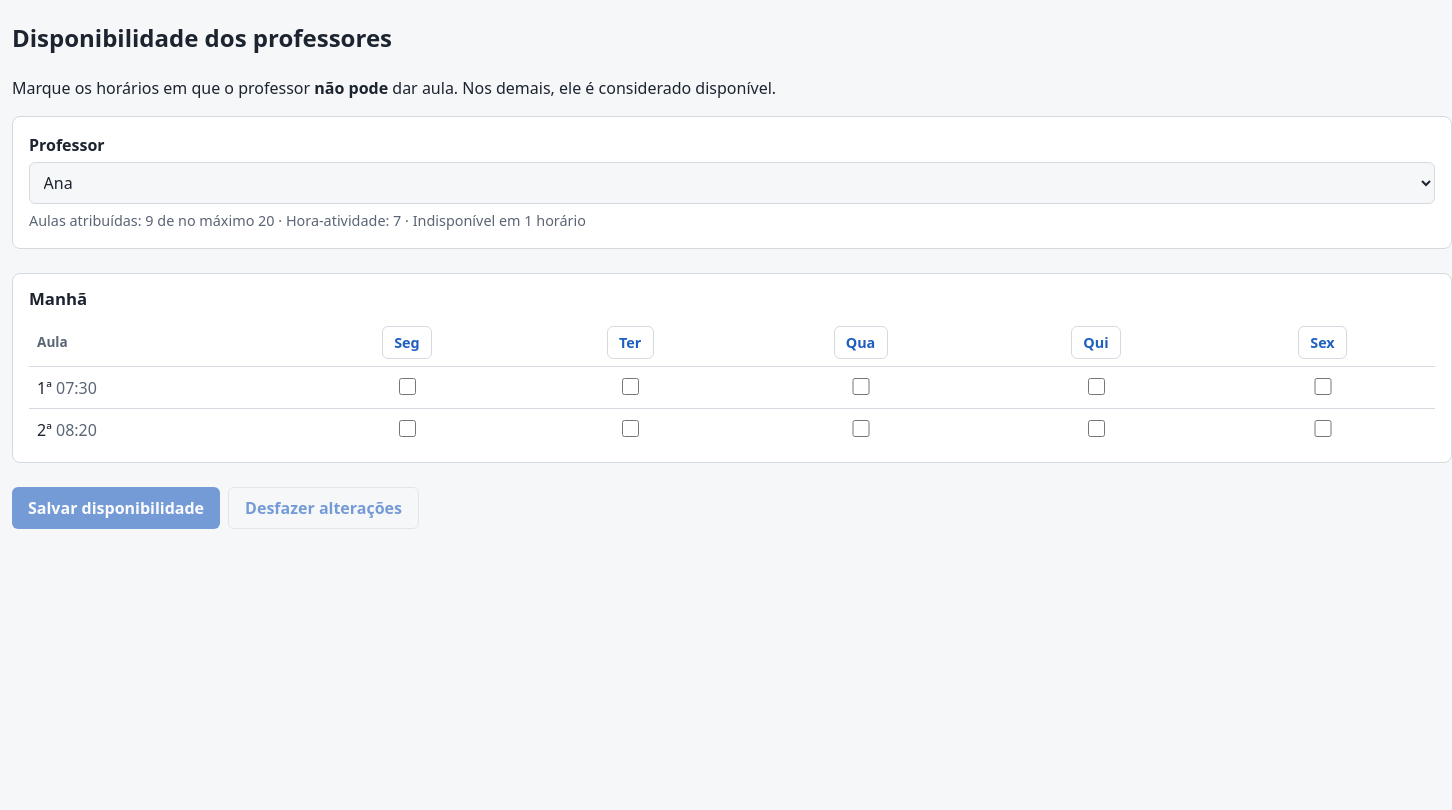
AvailabilityPage › marca horários e o dia inteiro, e salva preservando os de turnos arquivados
Expected: the button "Salvar disponibilidade" is disabled, [12,487,220,529]
Click the checkbox named "Indisponível na segunda, 2ª aula da Manhã (08:20–09:10)" at (407, 428), box [399,420,416,437]
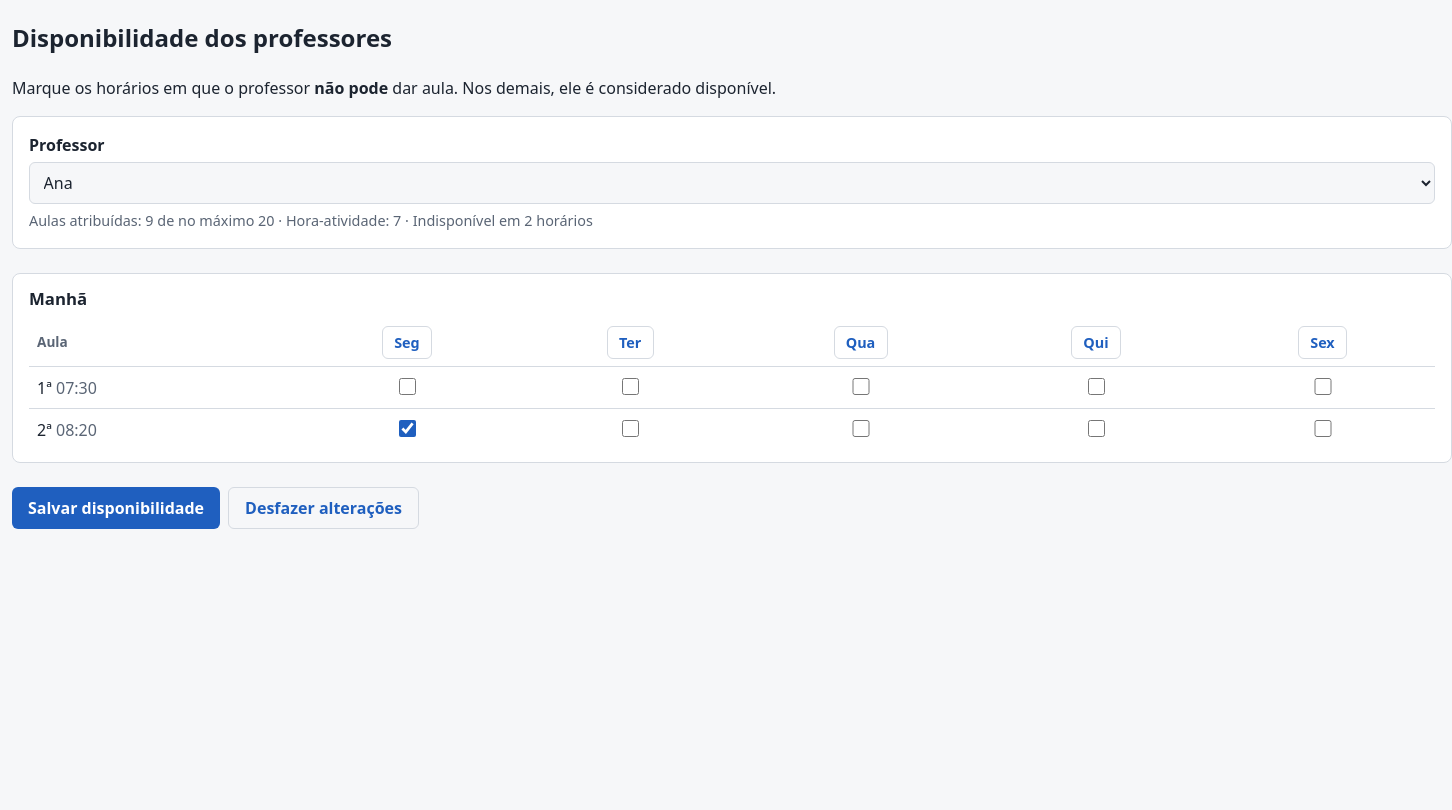
Click the button with aria-label "quarta inteira indisponível na Manhã" at (860, 343), box [834,326,888,359]
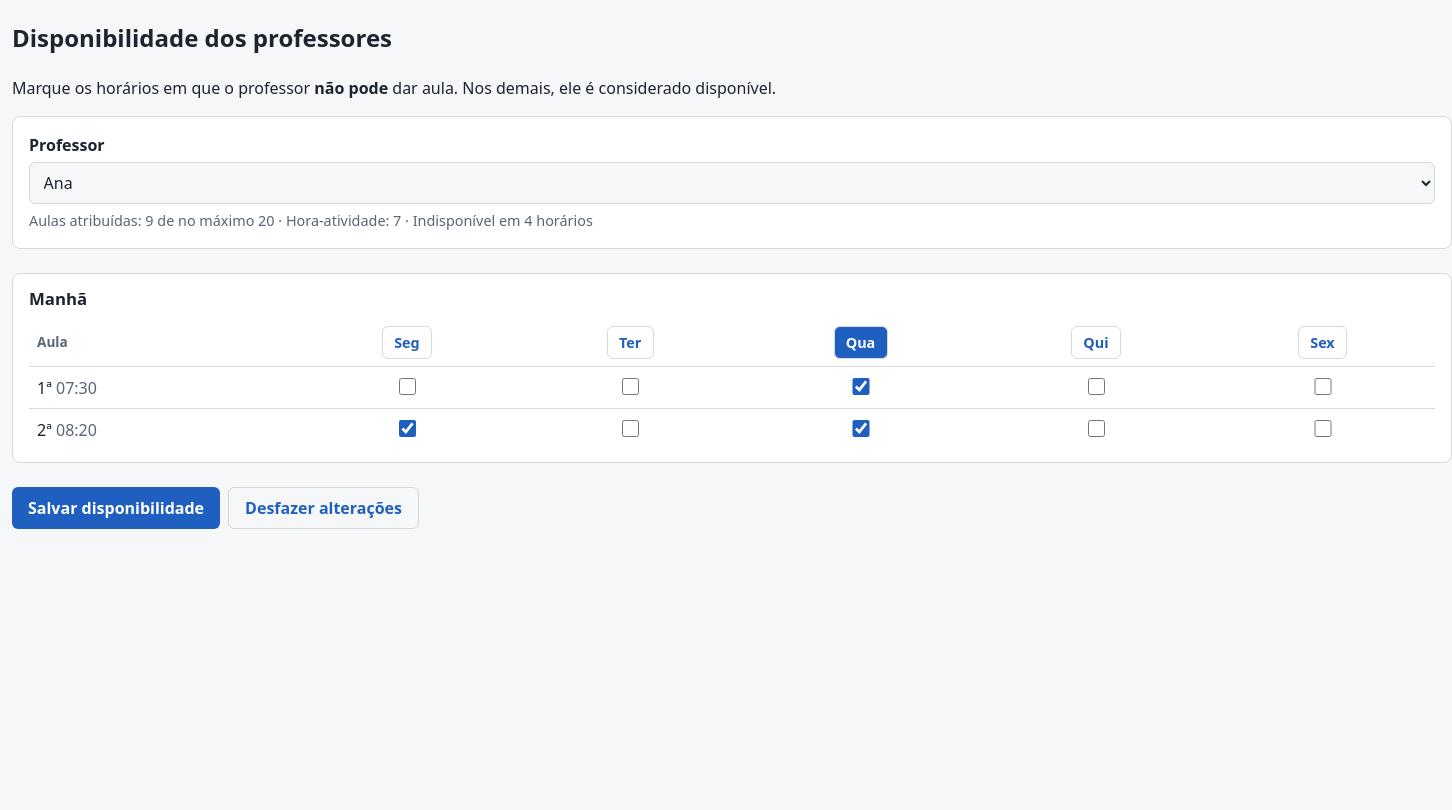
Now the text with class "hint" shows "Indisponível em 4 horários", box [29,211,593,230]
Click the button "Salvar disponibilidade" at (116, 508), box [12,487,220,529]
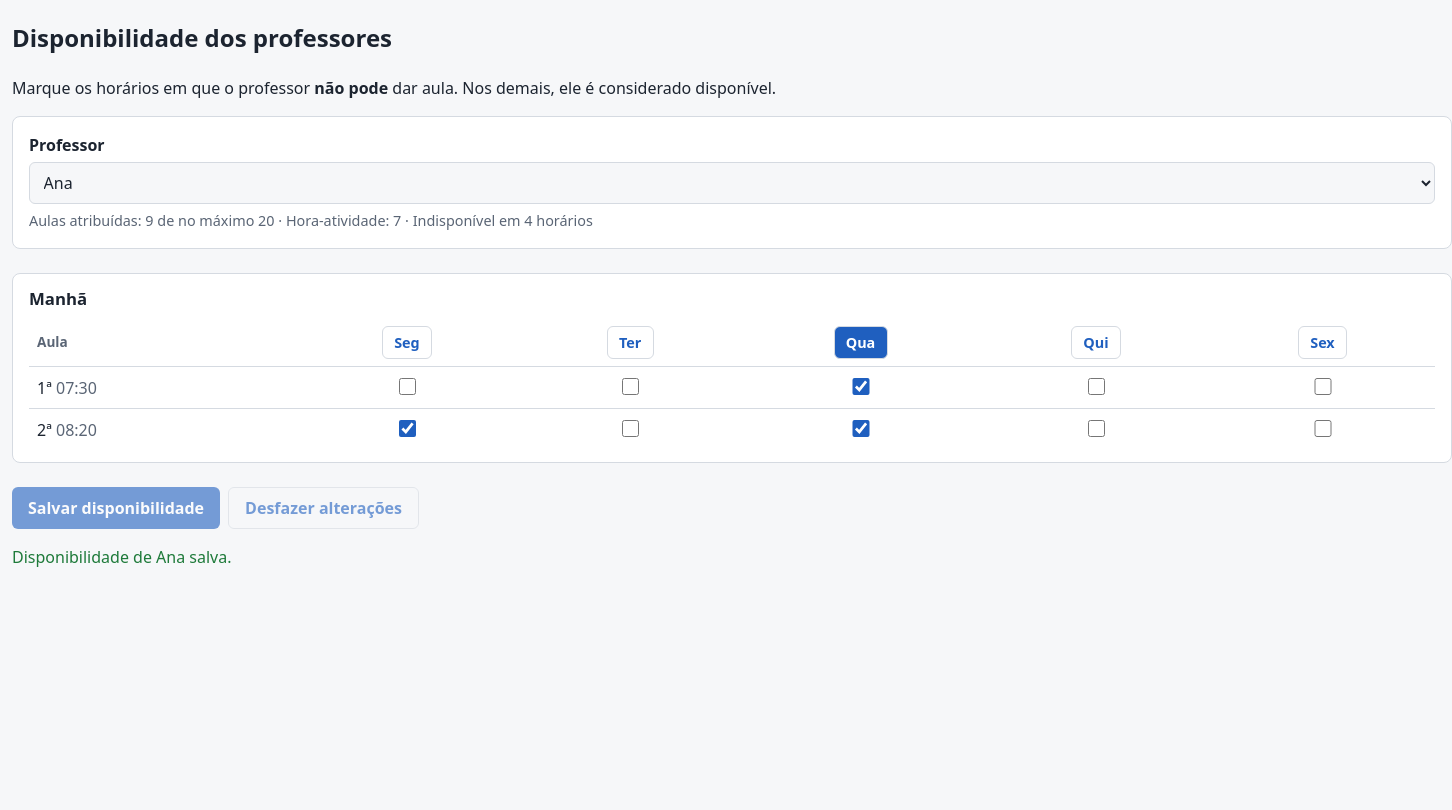
Now the message "Disponibilidade de Ana salva." is shown, box [12,546,232,568]
Now the button "Salvar disponibilidade" is disabled, box [12,487,220,529]
